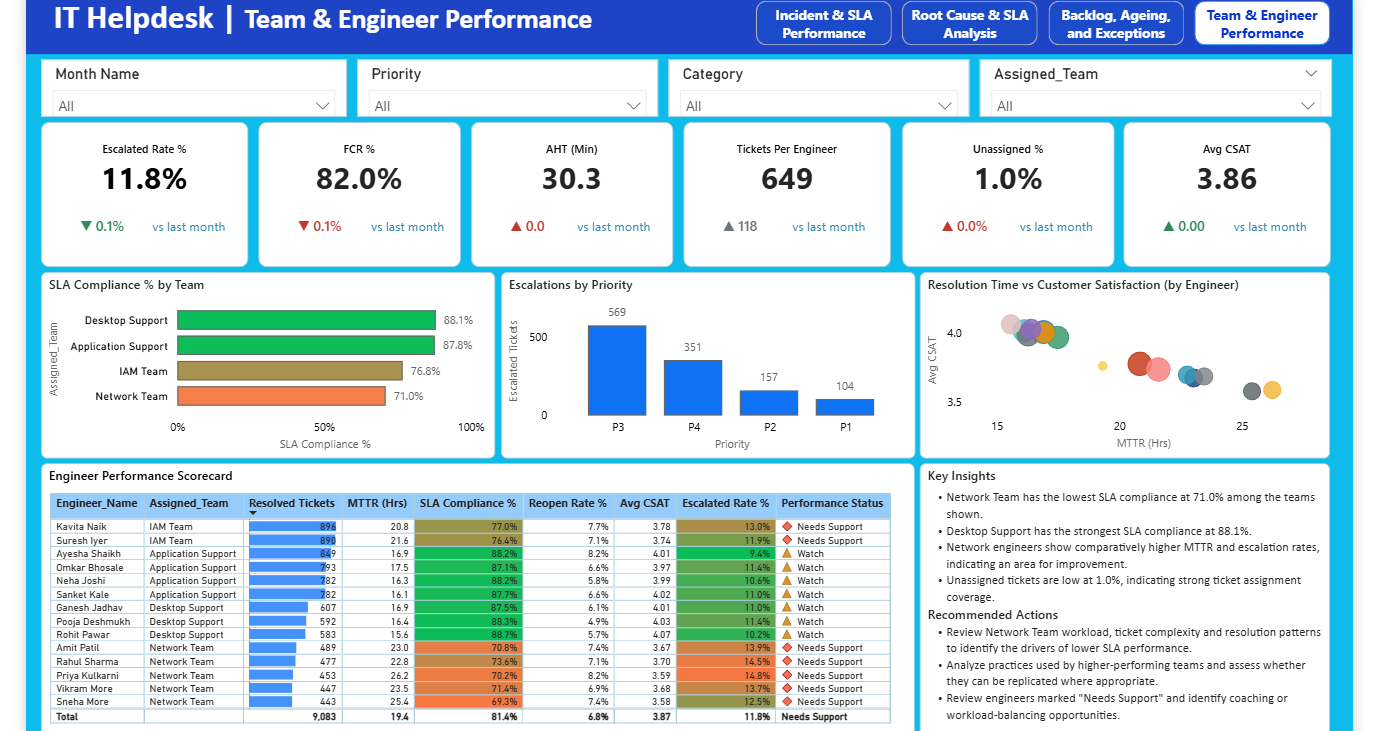

What the dashboard file says about the page in this screenshot:
{"tool":"powerbi","page":{"name":"Team & Engineer Performance","canvas":[1280,720],"ordinal":3},"visuals":[{"type":"slicer","fields":{"Values":["Dim_Date.Month Name"]},"box":[15,65,295,55],"z":0},{"type":"slicer","fields":{"Values":["Dim_Priority.Priority"]},"box":[320,65,290,55],"z":1000},{"type":"slicer","fields":{"Values":["Dim_Category.Category"]},"box":[620,65,290,55],"z":2000},{"type":"slicer","fields":{"Values":["Dim_Engineer.Assigned_Team"]},"box":[920,65,340,55],"z":3000},{"type":"clusteredBarChart","title":"SLA Compliance % by Team","fields":{"Category":["Dim_Engineer.Assigned_Team"],"Y":["_Measures.SLA Compliance %"]},"box":[15,270.2,438,180],"z":4000},{"type":"scatterChart","title":"Resolution Time vs Customer Satisfaction (by Engineer)","fields":{"X":["_Measures.MTTR (Hrs)"],"Y":["_Measures.Avg CSAT"],"Series":["Dim_Engineer.Engineer_Name"],"Size":["_Measures.Resolved Tickets"]},"box":[863,270.2,396,179.8],"z":5000},{"type":"clusteredColumnChart","title":"Escalations by Priority","fields":{"Category":["Dim_Priority.Priority"],"Y":["_Measures.Escalated Tickets"]},"box":[458.6,270.2,399.9,180],"z":6000},{"type":"textbox","title":"Key Insights","box":[863,455,396,265.4],"z":7000},{"type":"tableEx","title":"Engineer Performance Scorecard","fields":{"Values":["Dim_Engineer.Engineer_Name","Dim_Engineer.Assigned_Team","_Measures.Resolved Tickets","_Measures.MTTR (Hrs)","_Measures.SLA Compliance %","_Measures.Reopen Rate %","_Measures.Avg CSAT","_Measures.Escalated Rate %","_Measures.Performance Status"]},"box":[15,455,843.2,265.4],"z":8000},{"type":"cardVisual","fields":{"Data":["_Measures.AHT (Min)"]},"box":[430,125,195,140],"z":9000},{"type":"cardVisual","fields":{"Data":["_Measures.FCR %"]},"box":[225,125,195,140],"z":10000},{"type":"cardVisual","fields":{"Data":["_Measures.Escalated Rate %"]},"box":[15,125,200,140],"z":11000},{"type":"cardVisual","fields":{"Data":["_Measures.Tickets Per Engineer"]},"box":[635,125,200,140],"z":12000},{"type":"cardVisual","fields":{"Data":["_Measures.Unassigned %"]},"box":[845.3,125,205,140],"z":13000},{"type":"cardVisual","fields":{"Data":["_Measures.Avg CSAT"]},"box":[1059.4,125,200,140],"z":14000},{"type":"textbox","box":[0,0,1280.3,60],"z":15000},{"type":"textbox","box":[117.5,211,83.8,37.5],"z":16000},{"type":"textbox","box":[328.8,211.2,90,35],"z":17000},{"type":"textbox","box":[527.5,211,92.5,38.8],"z":18000},{"type":"textbox","box":[735,211.2,88.8,33.8],"z":19000},{"type":"textbox","box":[953.8,211,81.2,36.2],"z":20000},{"type":"textbox","box":[1160,211,87.5,33.8],"z":21000},{"type":"pageNavigator","box":[704.6,8.4,555,43.4],"z":22000}]}

Visuals, with their boxes in screenshot pixels (x1, y1, x2, y2):
slicer - Dim_Date.Month Name: (37, 57, 343, 114)
slicer - Dim_Priority.Priority: (353, 57, 654, 114)
slicer - Dim_Category.Category: (664, 57, 965, 114)
slicer - Dim_Engineer.Assigned_Team: (975, 57, 1327, 114)
"SLA Compliance % by Team" clusteredBarChart: (37, 269, 491, 456)
"Resolution Time vs Customer Satisfaction (by Engineer)" scatterChart: (916, 269, 1326, 456)
"Escalations by Priority" clusteredColumnChart: (497, 269, 911, 456)
"Key Insights" textbox: (916, 461, 1326, 730)
"Engineer Performance Scorecard" tableEx: (37, 461, 911, 730)
cardVisual - _Measures.AHT (Min): (467, 119, 669, 264)
cardVisual - _Measures.FCR %: (255, 119, 457, 264)
cardVisual - _Measures.Escalated Rate %: (37, 119, 244, 264)
cardVisual - _Measures.Tickets Per Engineer: (680, 119, 887, 264)
cardVisual - _Measures.Unassigned %: (898, 119, 1110, 264)
cardVisual - _Measures.Avg CSAT: (1120, 119, 1327, 264)
textbox: (21, 0, 1349, 51)
textbox: (143, 208, 230, 247)
textbox: (362, 208, 456, 244)
textbox: (568, 208, 664, 248)
textbox: (783, 208, 875, 243)
textbox: (1010, 208, 1094, 246)
textbox: (1224, 208, 1315, 243)
pageNavigator: (752, 0, 1327, 43)
